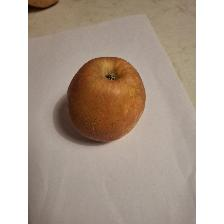Apfel: (63, 50, 149, 144)
